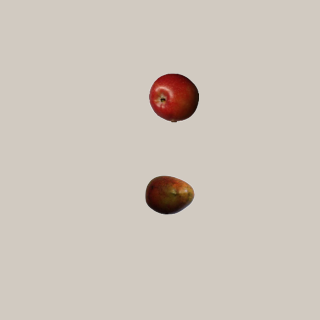Apple Braeburn: (148, 72, 198, 122)
Mango Red: (144, 169, 194, 219)
